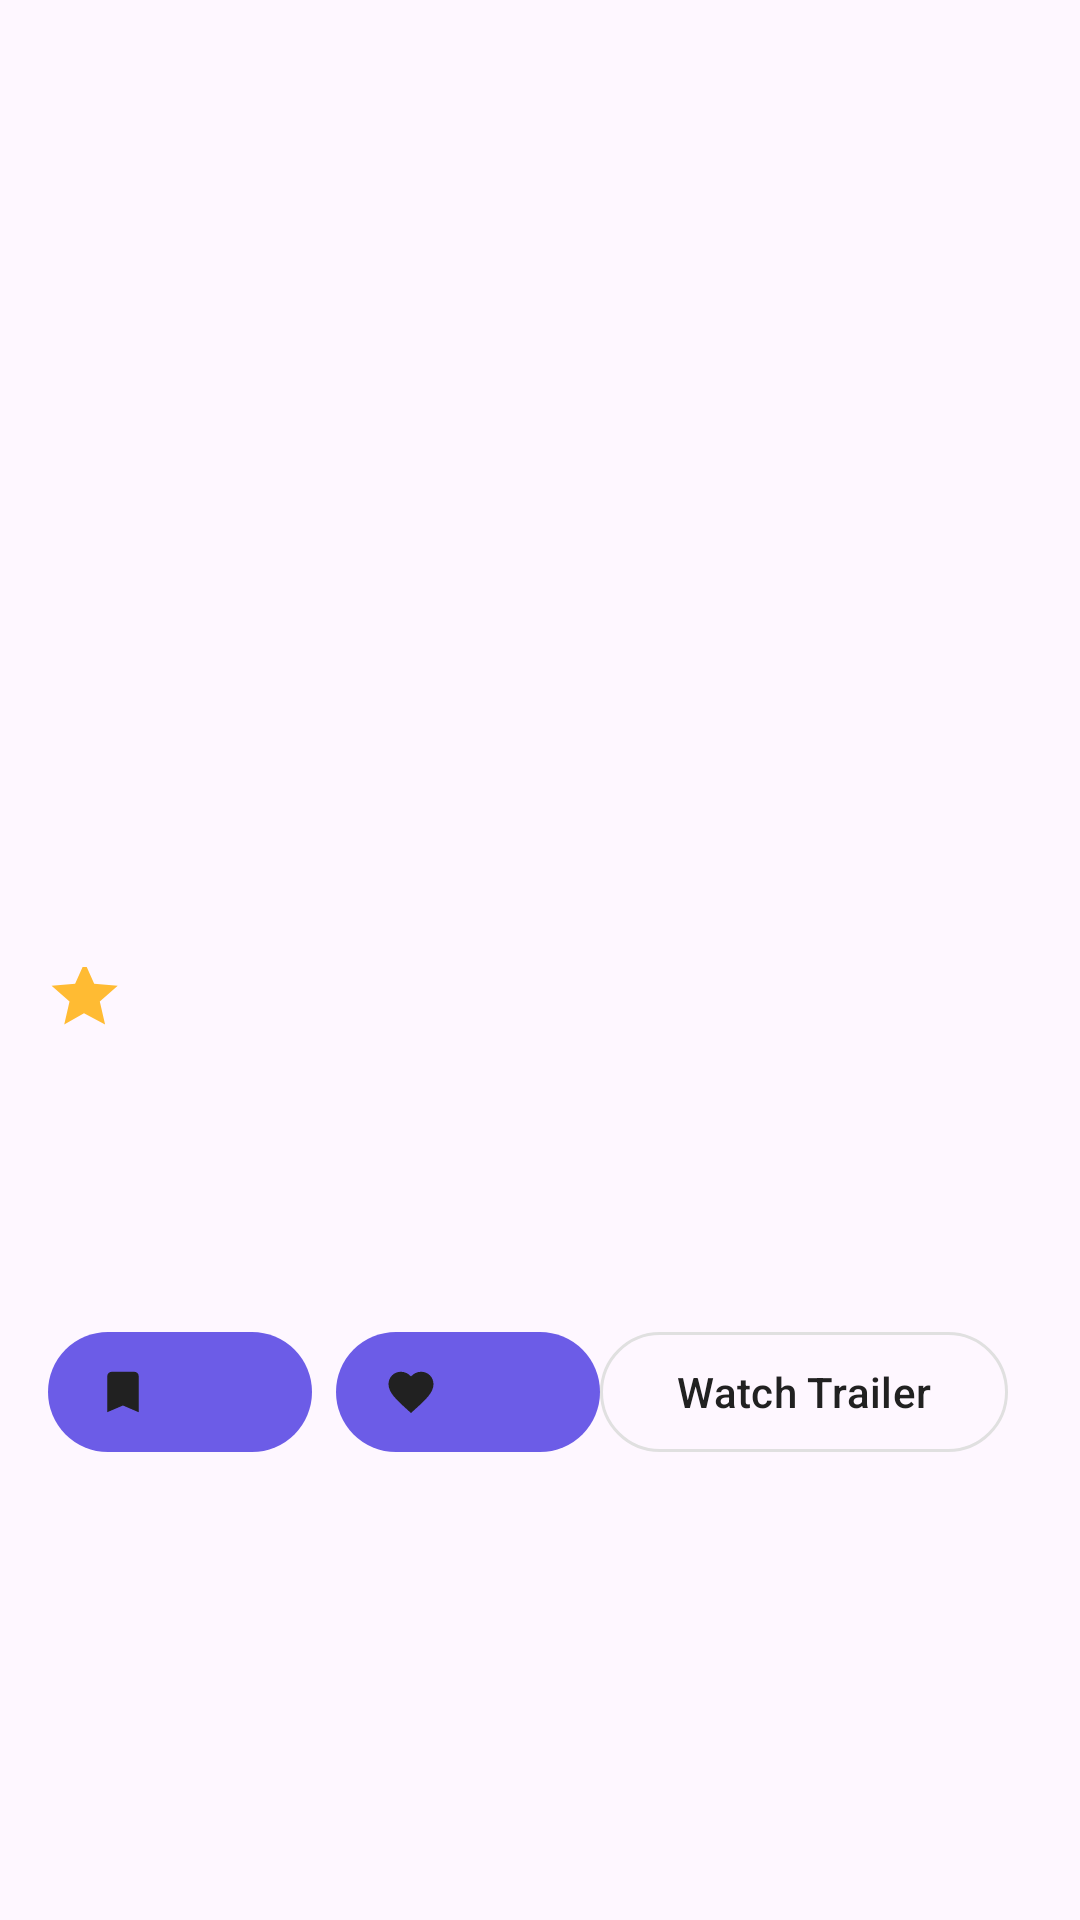

Screen size 1080w x 1920h. Icon name, then its box in pixels as bbox=(x1, y1, x2, y2):
bookmark: bbox=(48, 1332, 312, 1452)
favorite border: bbox=(336, 1332, 600, 1452)
